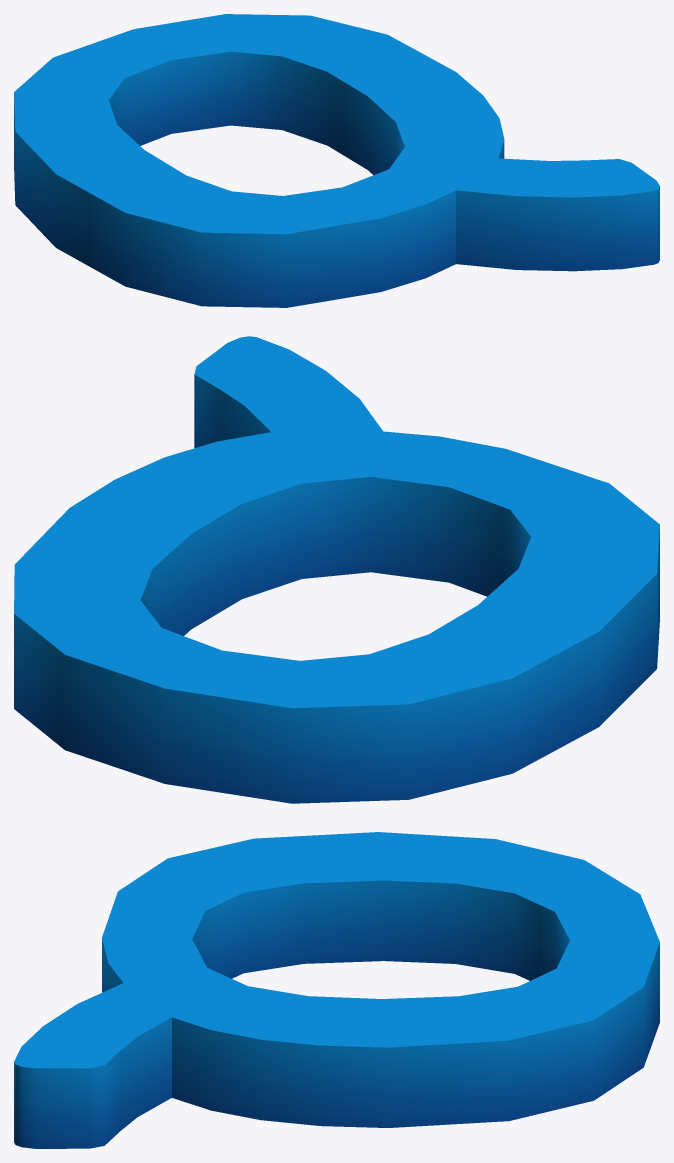
Rendered from letter_Q.fbx.
The picture shows the model from 3 angles, top to bottom: view 1: azimuth 30°, elevation 25°; view 2: azimuth 150°, elevation 25°; view 3: azimuth 270°, elevation 25°; orthographic projection. The views are drawn at different scales.
Parts seen in each view (by area): view 1: letter_Q; view 2: letter_Q; view 3: letter_Q.
Part boxes in pixels (box(x1,y1,x2,y2)): letter_Q: box(14, 14, 659, 307); letter_Q: box(14, 336, 659, 803); letter_Q: box(14, 832, 659, 1148).
Bounding box in the file's own units: 23.63 × 3.75 × 27.28.
